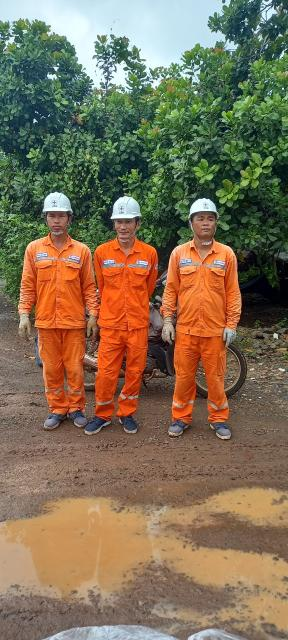gloves: (18, 314, 36, 346), (223, 324, 239, 348), (87, 314, 100, 343), (162, 317, 175, 346)
helmet: (109, 195, 144, 220), (43, 191, 71, 213), (189, 197, 218, 215)
shoes: (207, 416, 235, 445), (85, 408, 112, 436), (118, 409, 141, 439), (43, 406, 69, 431), (167, 415, 191, 441), (68, 405, 88, 427)
